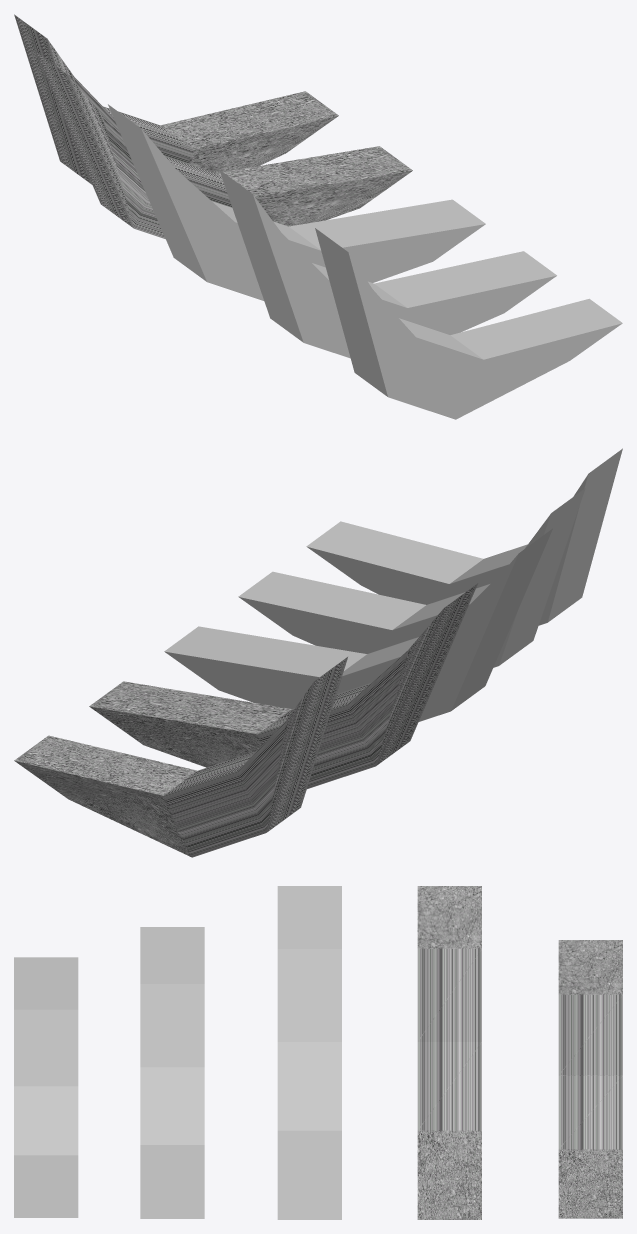
File: fossil_ribs.obj
The picture shows the model from 3 angles, top to bottom: view 1: azimuth 30°, elevation 25°; view 2: azimuth 150°, elevation 25°; view 3: azimuth 270°, elevation 25°; orthographic projection. The views are drawn at different scales.
Parts seen in each view (by area): view 1: Cube.004; view 2: Cube.004; view 3: Cube.004.
Part boxes in pixels (x1=…): Cube.004: x1=14, y1=14, x2=622, y2=419; Cube.004: x1=14, y1=448, x2=622, y2=857; Cube.004: x1=14, y1=886, x2=622, y2=1219.
Bounding box in the file's own units: 7.16 × 4.64 × 11.41.
